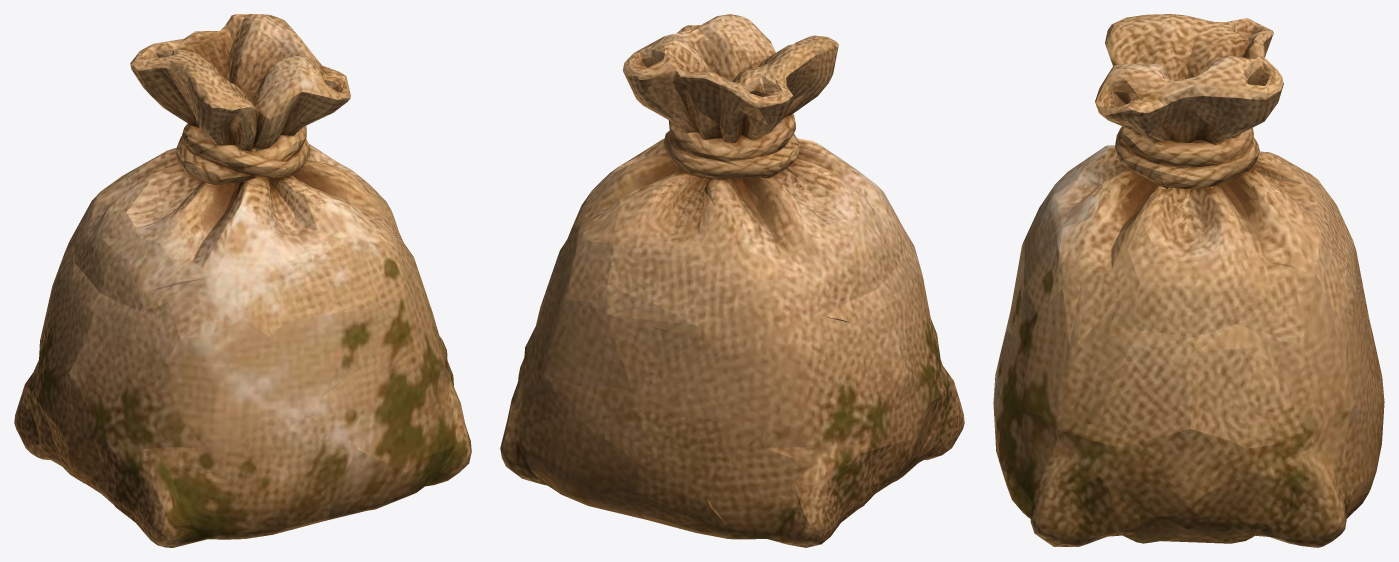
The model's file is flour-sack.glb.
3 views of the same model, side by side, from view 1: azimuth 30°, elevation 25°; view 2: azimuth 150°, elevation 25°; view 3: azimuth 270°, elevation 25° (orthographic). The views are drawn at different scales.
Visible parts, largest first — view 1: output_unwrapped; view 2: output_unwrapped; view 3: output_unwrapped.
Boxes of the visible parts, left/top/right/bottom form: output_unwrapped: left=14, top=14, right=471, bottom=547; output_unwrapped: left=500, top=14, right=964, bottom=547; output_unwrapped: left=993, top=14, right=1384, bottom=547.
Bounding box in the file's own units: 1.64 × 1.9 × 1.53.
Materials: 1 (1 with a texture image).
